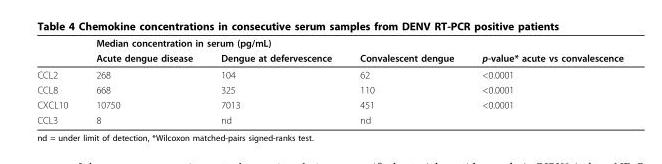table: (36, 36, 622, 125)
table column: (467, 36, 622, 125), (206, 36, 345, 125), (81, 36, 206, 125), (345, 36, 467, 125), (36, 36, 81, 125)
table column header: (36, 36, 622, 66)
table row: (36, 50, 622, 66), (36, 96, 622, 112), (36, 66, 622, 81), (36, 81, 622, 96), (36, 36, 622, 50), (36, 112, 622, 125)
table spanning cell: (81, 36, 467, 50), (467, 36, 622, 66)
